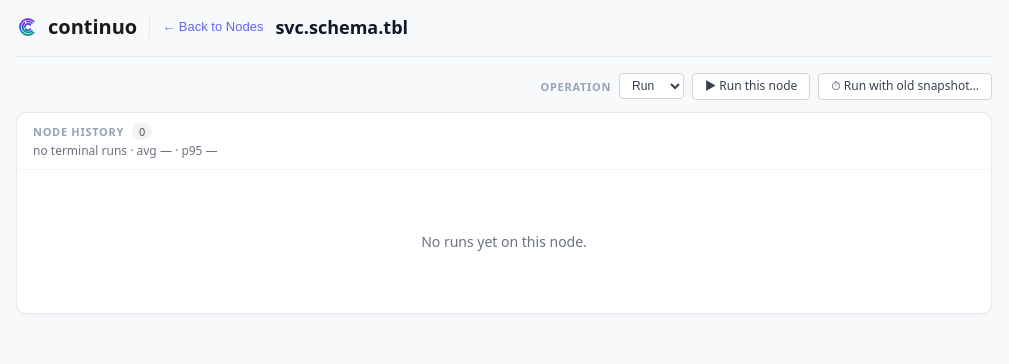
Test: NodeDetailPage — foundations › error renders as full-width .info-strip--error after a failed POST
Click the button "▶ Run this node" at (751, 86), box [692,73,810,100]
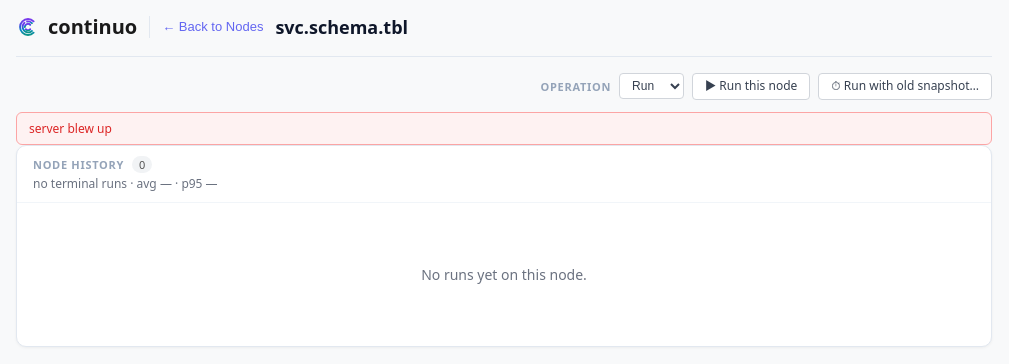
Check: the text "server blew up" is shown, box [16,112,992,145]
